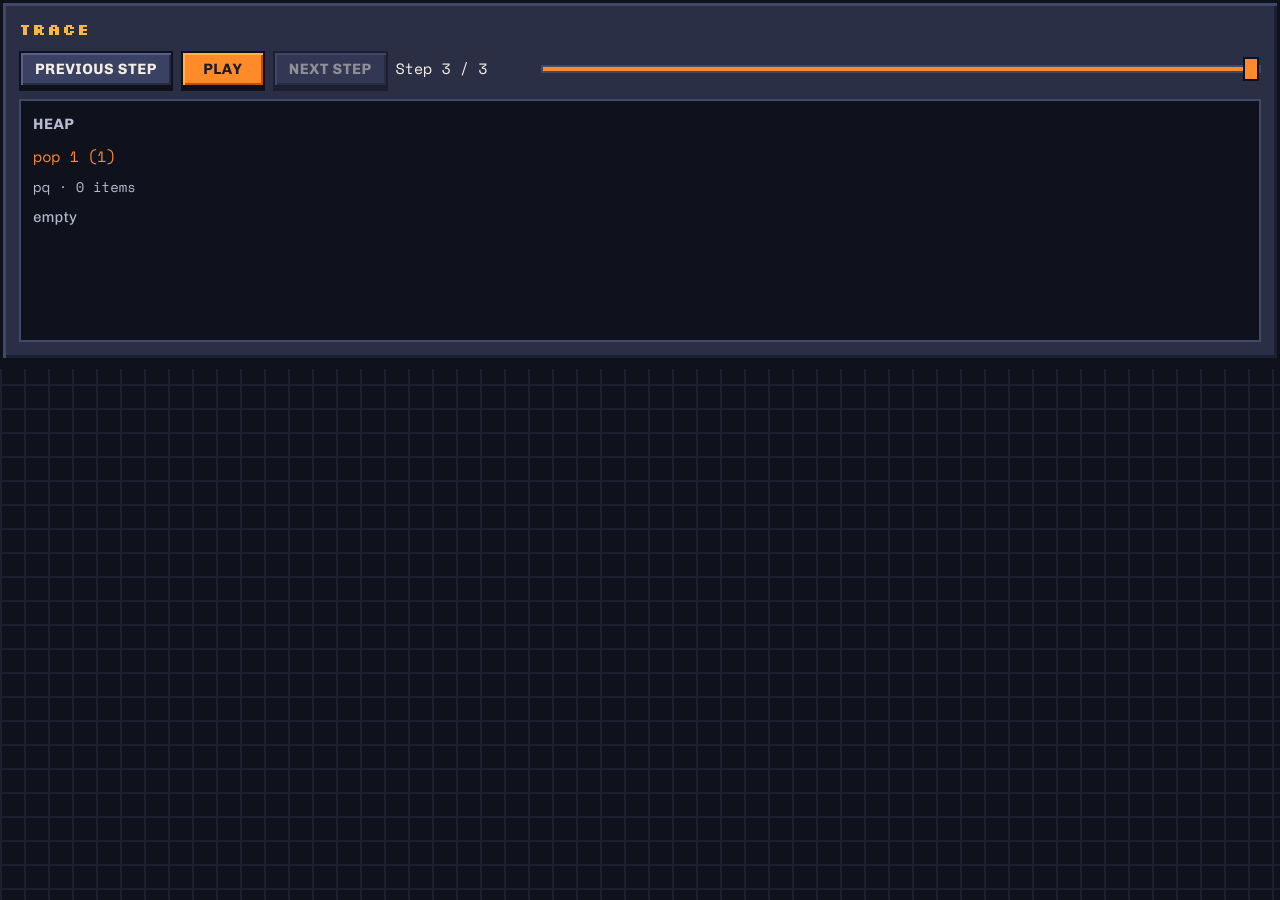
family panels (§3–§4) › UAT cu-5 P3-3: an empty heap says so (V0.9), and a heap never shows the two helper lines (V2)
The image size is (1280, 900).
Expected: the element with test id "heap-view" is shown, x1=19 y1=99 x2=1261 y2=342
Expected: the text "pq · 0 items" is shown, x1=33 y1=176 x2=136 y2=197
Click the button "Previous step": x=96, y=69 x1=19 y1=51 x2=173 y2=87
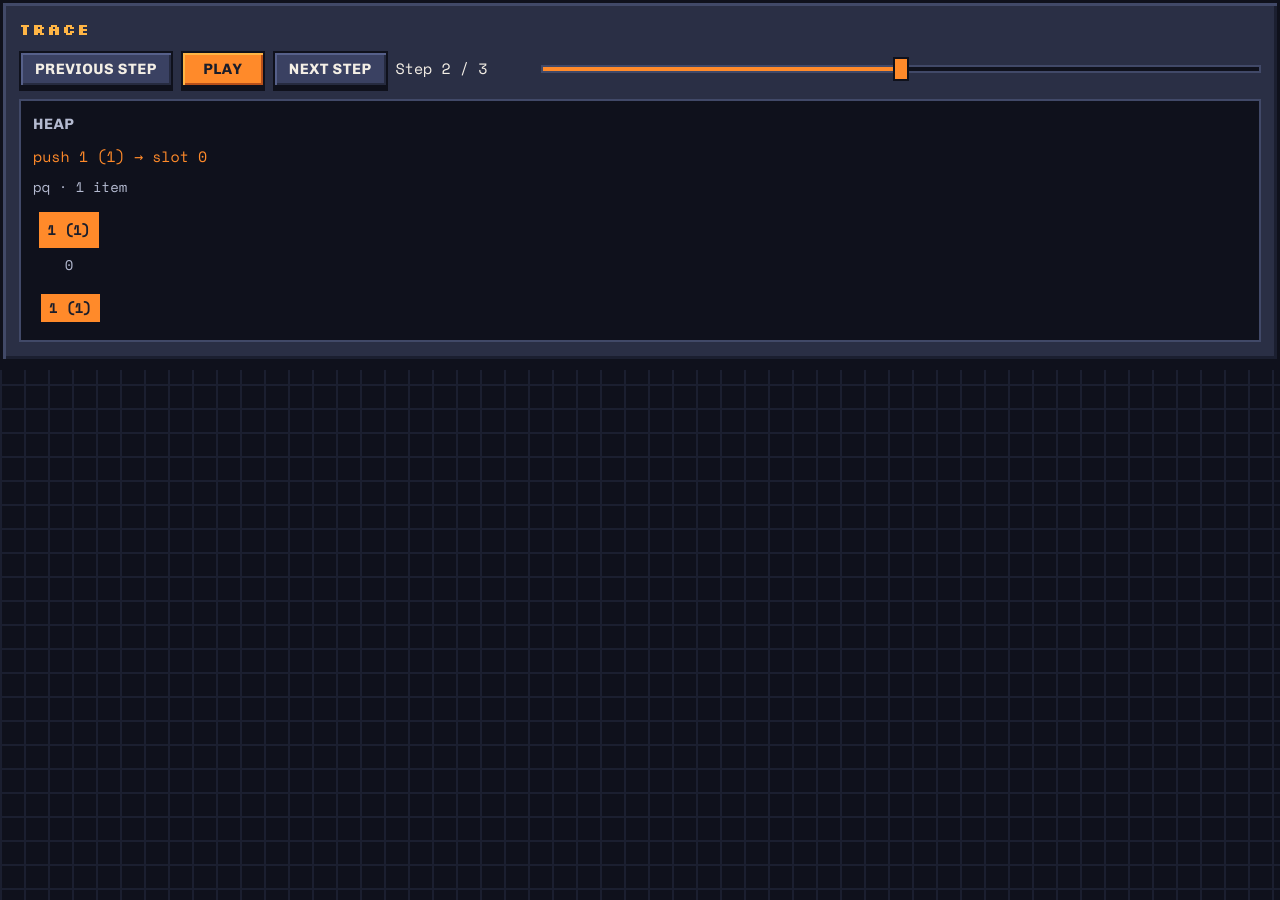
Expected: the list with test id "heap-array" is shown, x1=37 y1=210 x2=101 y2=276
